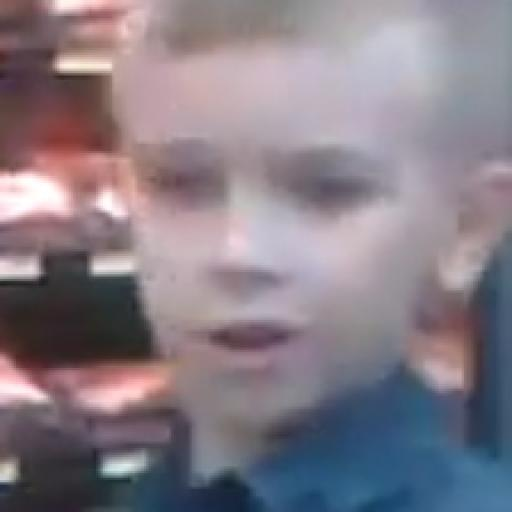Autism: (115, 7, 496, 446)
